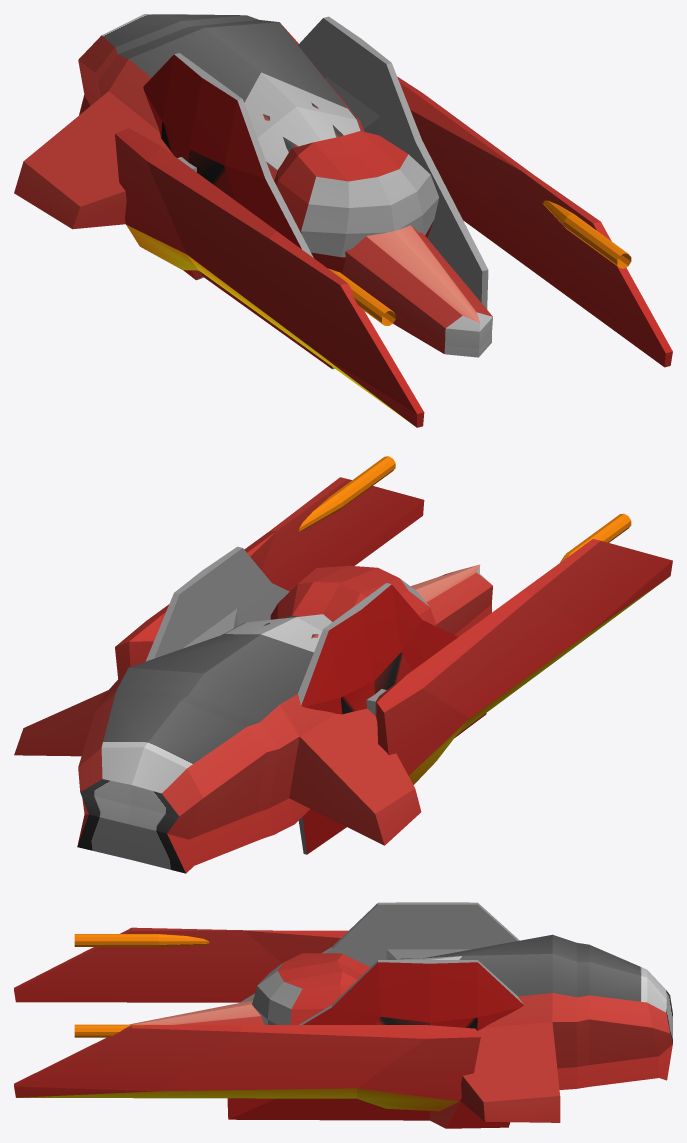
The model's file is Naves.fbx.
3 views of the same model, one above another, from view 1: azimuth 30°, elevation 25°; view 2: azimuth 150°, elevation 25°; view 3: azimuth 270°, elevation 25° (orthographic). The views are drawn at different scales.
Visible parts, largest first — view 1: Ship3, Ship1, Ship2; view 2: Ship1, Ship3, Ship2; view 3: Ship3, Ship1, Ship2.
Part boxes in pixels (left/top/right/bottom): Ship3: left=115, top=76, right=672, bottom=427; Ship1: left=14, top=14, right=492, bottom=357; Ship2: left=143, top=16, right=488, bottom=369; Ship1: left=14, top=564, right=492, bottom=873; Ship3: left=115, top=456, right=672, bottom=784; Ship2: left=145, top=546, right=486, bottom=854; Ship3: left=14, top=927, right=480, bottom=1111; Ship1: left=129, top=934, right=672, bottom=1122; Ship2: left=227, top=902, right=523, bottom=1128.
Size of the model in its own units: 708 by 387 by 1381.
